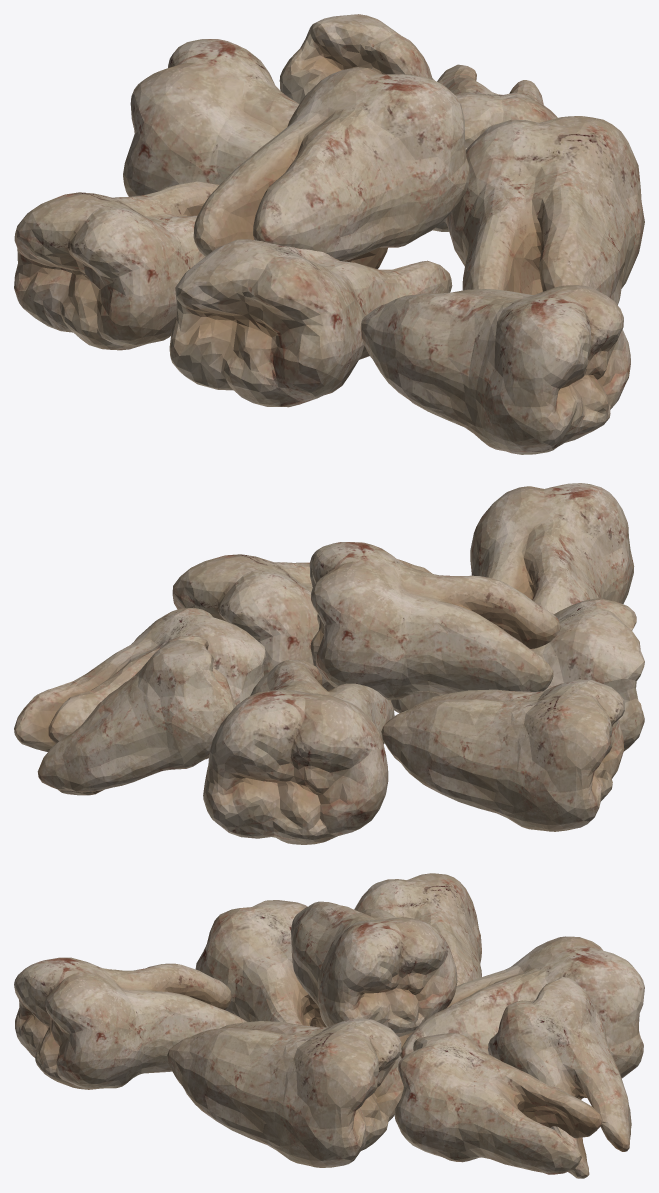
Rendered from Pile of Teeth.fbx.
3 views of the same model, one above another, from view 1: azimuth 30°, elevation 25°; view 2: azimuth 150°, elevation 25°; view 3: azimuth 270°, elevation 25° (orthographic). The views are drawn at different scales.
Parts seen in each view (by area): view 1: tooth.Shape; view 2: tooth.Shape; view 3: tooth.Shape.
Boxes of the visible parts, x1,y1,x2,y2 form: tooth.Shape: (14, 14, 644, 454); tooth.Shape: (14, 483, 644, 844); tooth.Shape: (14, 873, 644, 1178).
Size of the model in its own units: 3.13 by 1.15 by 3.71.
1 material, 1 textured.
